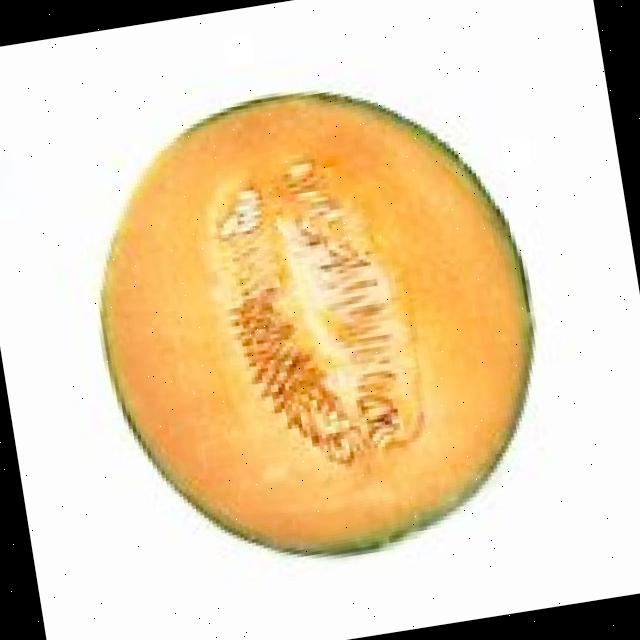Hami Melon: (70, 56, 569, 590)
